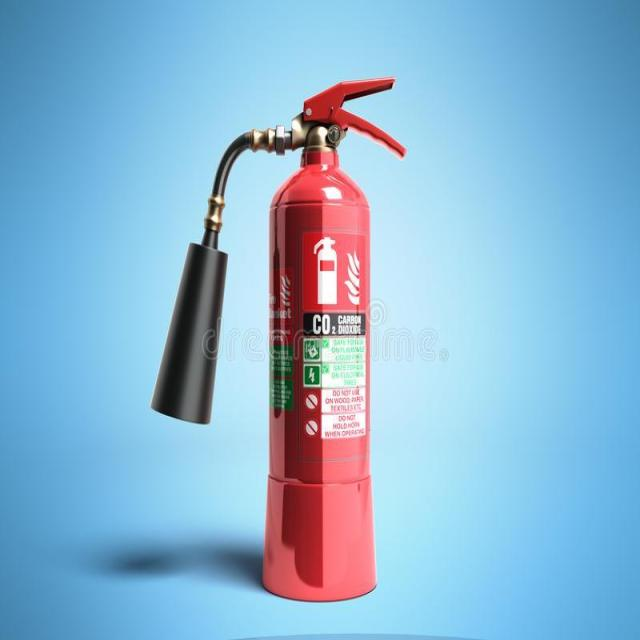fire_extinguisher: (146, 67, 411, 607)
